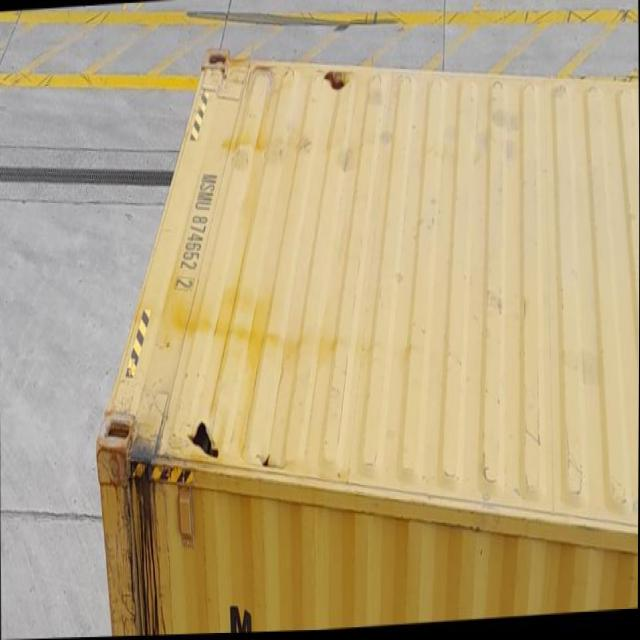hole: (189, 421, 220, 462), (325, 73, 351, 95), (255, 453, 271, 472)
